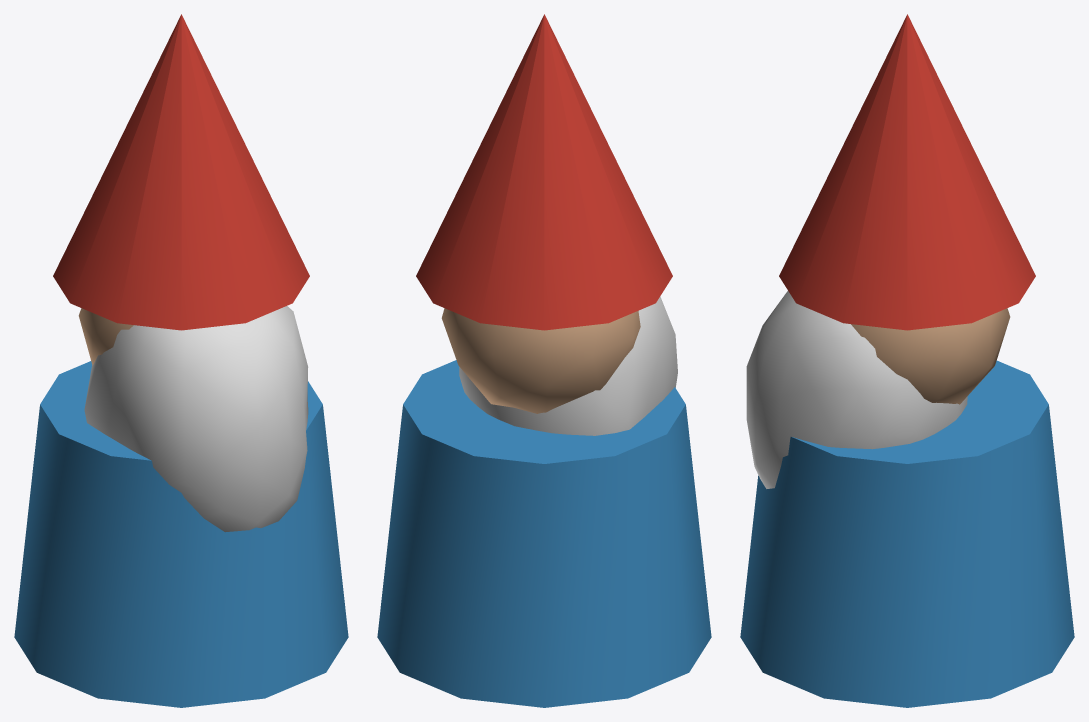
File: garden_gnome.glb
3 views of the same model, side by side, from view 1: azimuth 30°, elevation 25°; view 2: azimuth 150°, elevation 25°; view 3: azimuth 270°, elevation 25° (orthographic).
Visible parts, largest first — view 1: decor-garden_gnome; view 2: decor-garden_gnome; view 3: decor-garden_gnome.
Boxes of the visible parts, x1=… form: decor-garden_gnome: x1=14, y1=14, x2=348, y2=707; decor-garden_gnome: x1=377, y1=14, x2=711, y2=707; decor-garden_gnome: x1=740, y1=14, x2=1074, y2=707.
Bounding box in the file's own units: 0.52 × 1.07 × 0.52.
